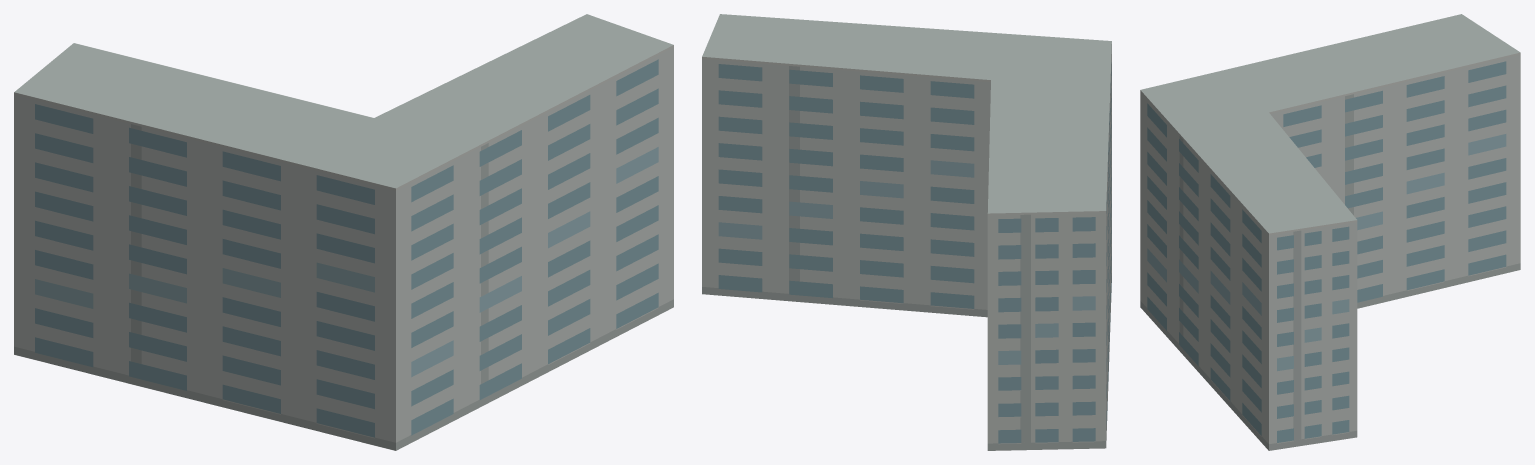
File: residential-1b7e829e-b57a-4442-85cb-a579b1e451de.glb
3 renders of one model, left to right at view 1: azimuth 30°, elevation 25°; view 2: azimuth 150°, elevation 25°; view 3: azimuth 270°, elevation 25°, orthographic. The views are drawn at different scales.
Visible parts, largest first — view 1: residential-1b7e829e-b57a-4442-85cb-a579b1e451de.tmp; view 2: residential-1b7e829e-b57a-4442-85cb-a579b1e451de.tmp; view 3: residential-1b7e829e-b57a-4442-85cb-a579b1e451de.tmp.
Part boxes in pixels (x1,y1,x2,y2): residential-1b7e829e-b57a-4442-85cb-a579b1e451de.tmp: [14, 14, 673, 450]; residential-1b7e829e-b57a-4442-85cb-a579b1e451de.tmp: [702, 14, 1111, 450]; residential-1b7e829e-b57a-4442-85cb-a579b1e451de.tmp: [1140, 14, 1520, 450].
Bounding box in the file's own units: 60.67 × 28 × 44.42.
